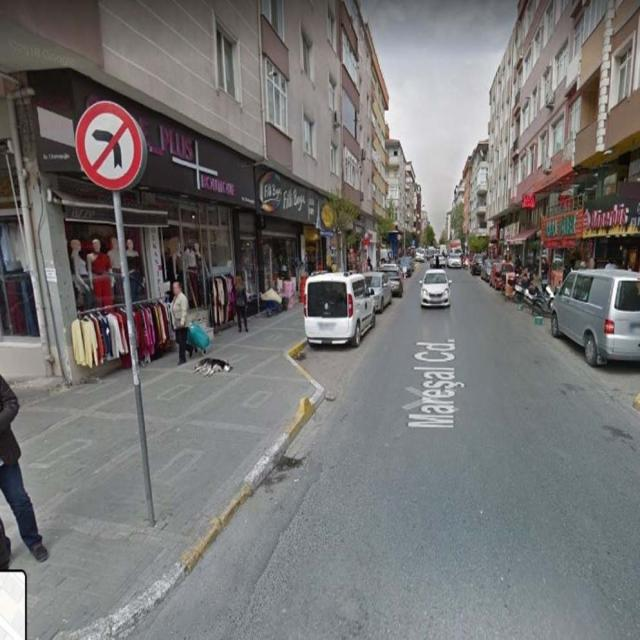soladonulmez: (75, 101, 142, 191)
